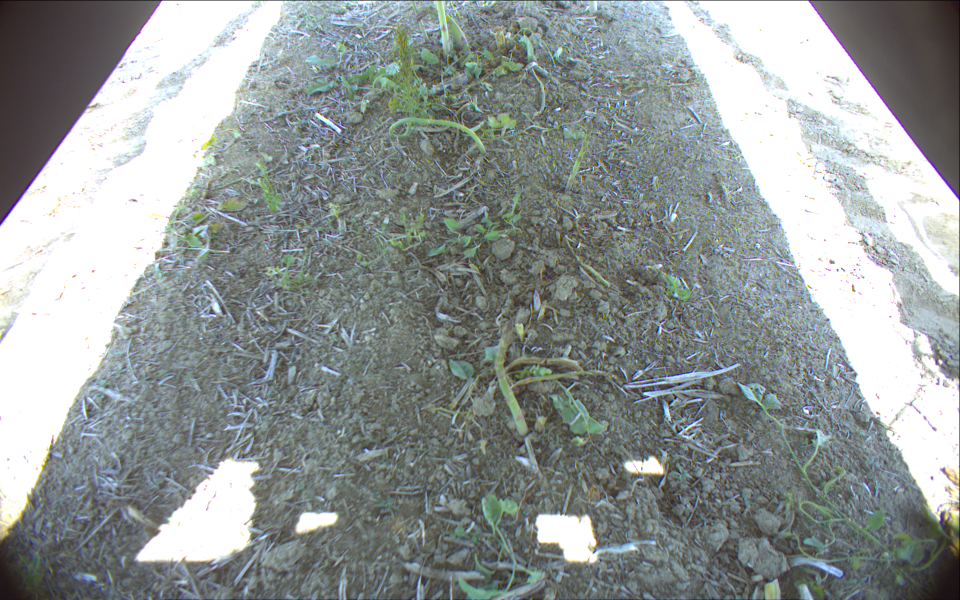aspa: (494, 319, 527, 438), (388, 117, 488, 155), (412, 9, 471, 53), (565, 120, 594, 193), (436, 1, 452, 54), (410, 1, 429, 42), (588, 1, 601, 16), (524, 1, 530, 9)
